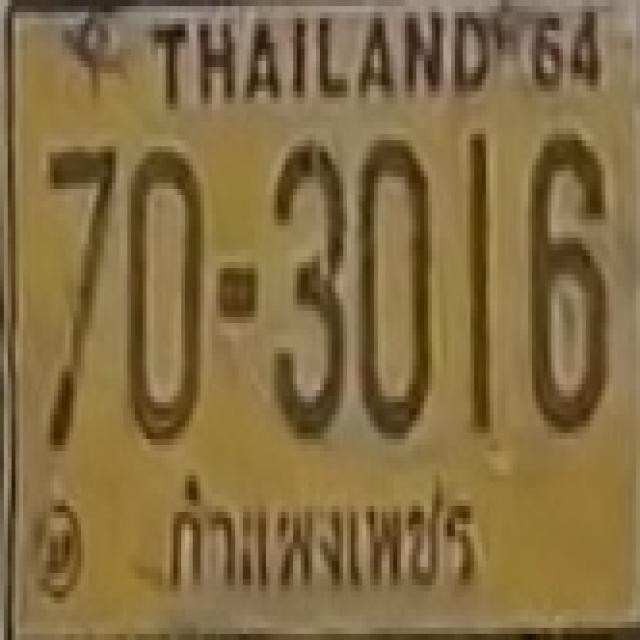0: (124, 143, 200, 442), (355, 134, 428, 433)
1: (464, 131, 490, 433)
3: (270, 137, 343, 436)
6: (526, 128, 607, 427)
7: (46, 140, 116, 445)
KPT: (154, 459, 486, 614)
